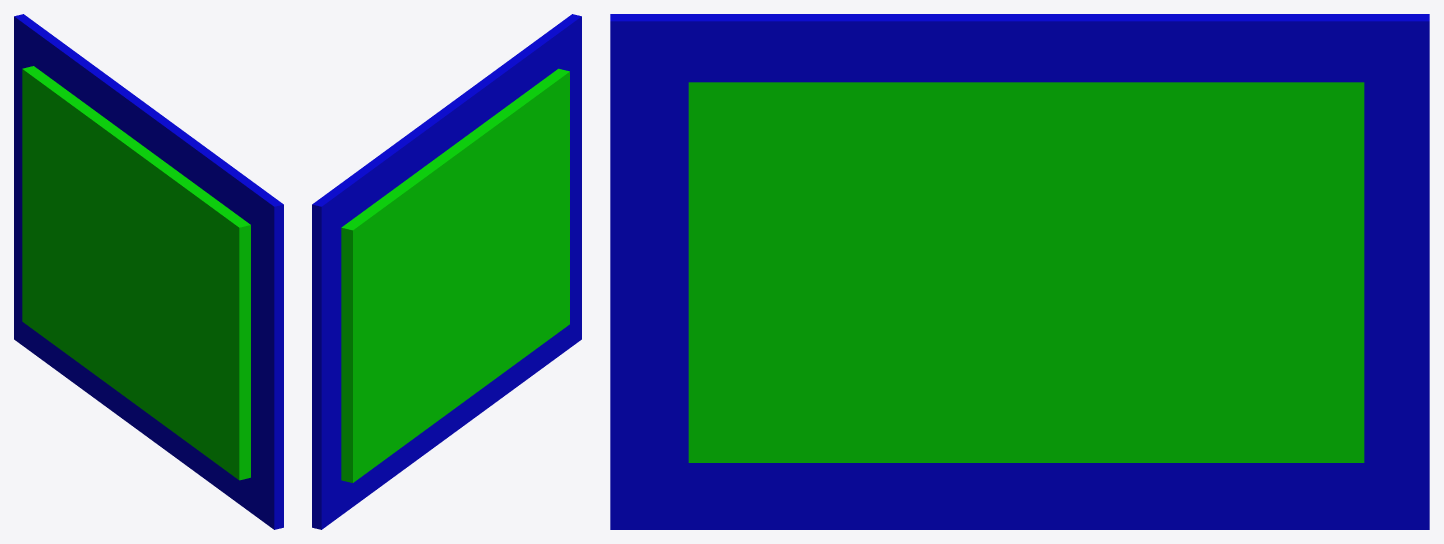
Rendered from recipieFrame1.fbx.
3 views of the same model, side by side, from view 1: azimuth 30°, elevation 25°; view 2: azimuth 150°, elevation 25°; view 3: azimuth 270°, elevation 25° (orthographic). The views are drawn at different scales.
Visible parts, largest first — view 1: picture, frame; view 2: picture, frame; view 3: picture, frame.
Part boxes in pixels (left/top/right/bottom): picture: left=22, top=66, right=250, bottom=480; frame: left=14, top=14, right=283, bottom=529; picture: left=341, top=68, right=569, bottom=482; frame: left=312, top=14, right=581, bottom=529; picture: left=688, top=82, right=1364, bottom=462; frame: left=610, top=14, right=1429, bottom=529.
Size of the model in its own units: 0.2434 by 3.56 by 5.2.
